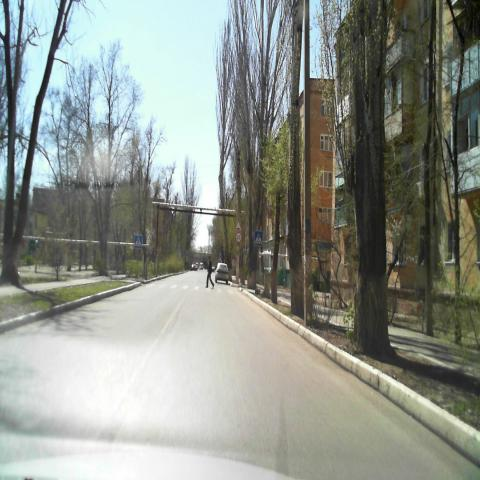1_17: (234, 219, 242, 231)
3_24: (236, 232, 242, 243)
5_19_1: (253, 230, 262, 246), (134, 235, 143, 249)
